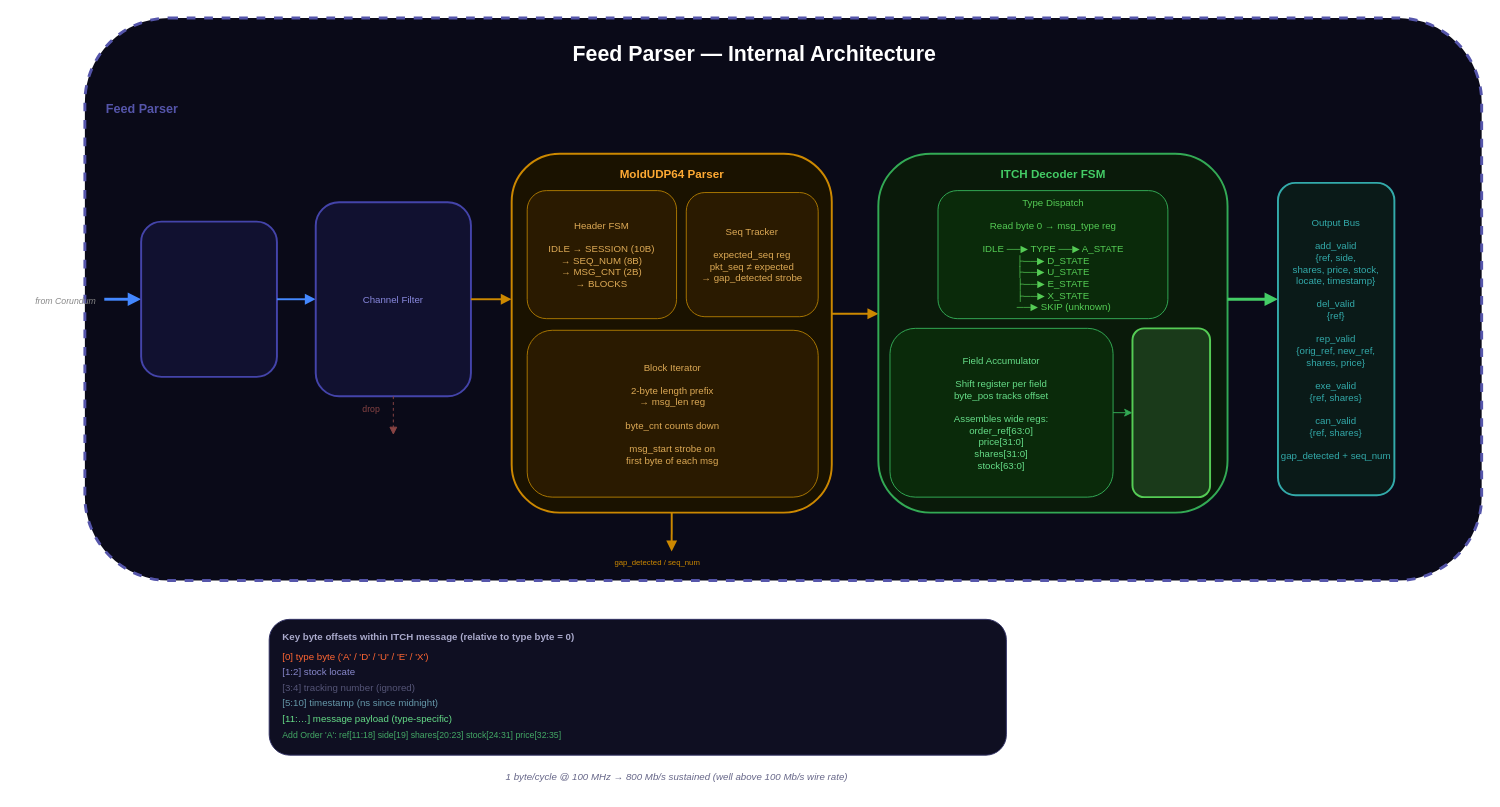
This 1500x807 diagram has some shape labels left out. The centre of each missing label's shape, as x and y in pixels:
"Input FIFO" goes at (208,298).
"Valid Strobes" goes at (1171,412).
